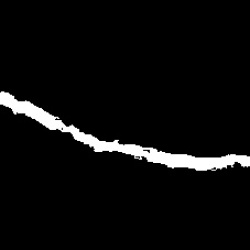crack: (2, 91, 246, 171)
